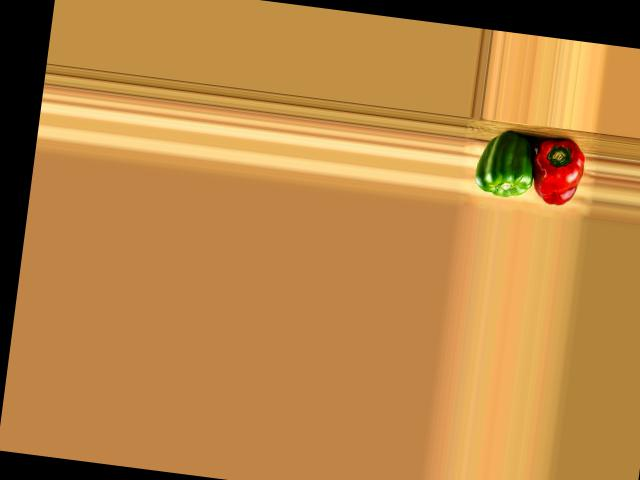bell_pepper: (526, 135, 588, 208)
